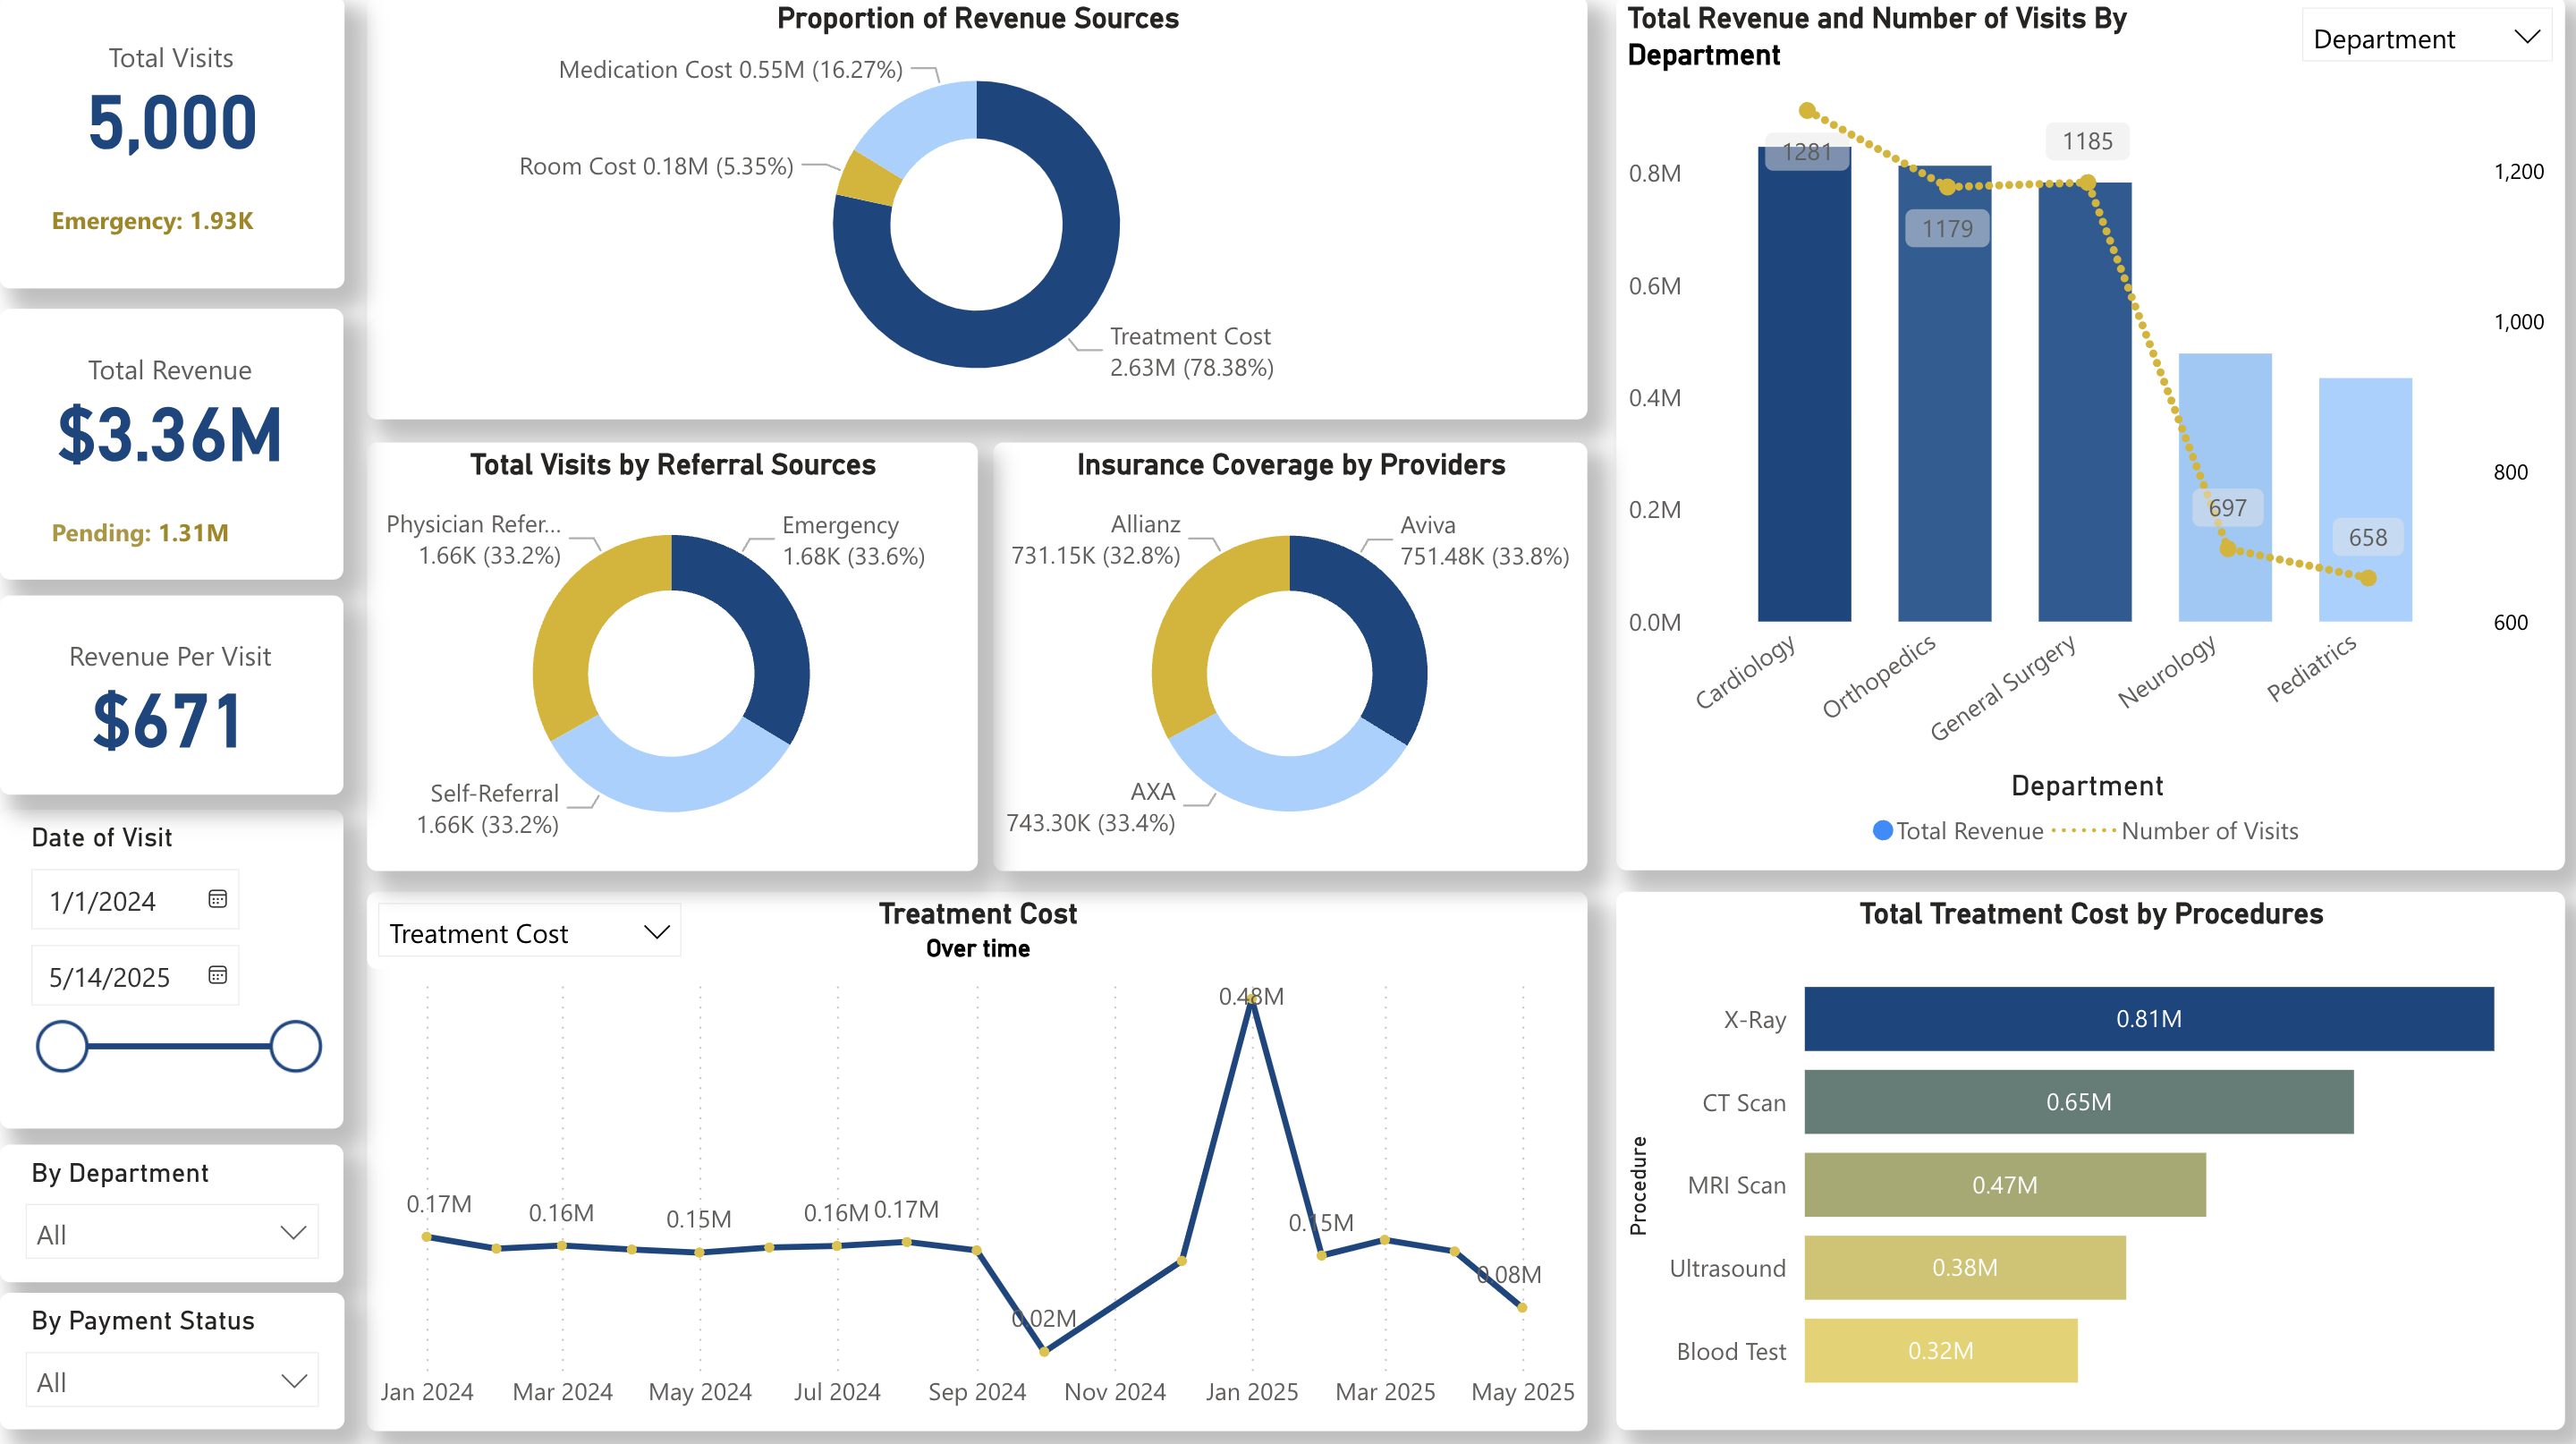

The dashboard page shown, as its layout file describes it:
{"tool":"powerbi","page":{"name":"Page 1","canvas":[1280,720],"ordinal":0},"visuals":[{"type":"donutChart","title":"Proportion of Revenue Sources","fields":{"Y":["Sum(Sheet1.Treatment Cost)","Sum(Sheet1.Room Cost)","Sum(Sheet1.Medication Cost)"]},"box":[182.5,0,606.2,209.9],"z":0},{"type":"lineClusteredColumnComboChart","title":"Total Revenue and Number of Visits By","fields":{"Category":["Sheet1.Department"],"Y":["Sum(Sheet1.Revenue)"],"Y2":["CountNonNull(Sheet1.Visit ID)"]},"box":[802.5,0,471.1,433.7],"z":1000},{"type":"lineChart","fields":{"Category":["Sheet1.Date of Visit.Variation.Date Hierarchy.Year1","Sheet1.Date of Visit.Variation.Date Hierarchy.Month"],"Y":["Field Selector.Measure_TotalBySelectedMeasure"]},"box":[182.5,444.4,606.2,267.8],"z":2000},{"type":"slicer","fields":{"Values":["Sheet1.Date of Visit"]},"box":[0,404,170.6,158.5],"z":3000},{"type":"slicer","title":"Revenue by","fields":{"Values":["Revenue by.Revenue by"]},"box":[1137.9,0,135.4,47.1],"z":4000},{"type":"slicer","fields":{"Values":["MeasureSelector.Value"]},"box":[182.5,444.4,161.9,38.3],"z":5000},{"type":"donutChart","title":"Insurance Coverage by Providers","fields":{"Category":["Sheet1.Insurance Provider"],"Y":["Sum(Sheet1.Insurance Coverage)"]},"box":[493.4,221.7,295.3,212.9],"z":6000},{"type":"donutChart","title":"Total Visits by Referral Sources","fields":{"Category":["Sheet1.Referral Source"],"Y":["Count(Sheet1.Visit ID)"]},"box":[182.5,221.7,303.1,212.9],"z":7000},{"type":"slicer","title":"Filter by Department","fields":{"Values":["Sheet1.Department"]},"box":[0,570.2,170.6,68.3],"z":8000},{"type":"slicer","title":"Filter by Payment Status","fields":{"Values":["Sheet1.Payment Status"]},"box":[0,644,171,68],"z":9000},{"type":"barChart","title":"Total Treatment Cost by Procedures","fields":{"Category":["Sheet1.Procedure"],"Y":["Sum(Sheet1.Treatment Cost)"]},"box":[802.5,444.7,471.1,267.5],"z":10000},{"type":"cardVisual","fields":{"Data":["Count(Sheet1.Visit ID)"]},"box":[0,0,171,145],"z":11000},{"type":"cardVisual","fields":{"Data":["Sum(Sheet1.Revenue)"]},"box":[0,155.2,170.6,134.3],"z":12000},{"type":"cardVisual","fields":{"Data":["Avg(Sheet1.Revenue)"]},"box":[0,297.2,170.6,99.1],"z":13000}]}

Visuals, with their boxes in screenshot pixels (x1, y1, x2, y2), scaled from the page's 1280x720 canvas onto the 2576x1444 screenshot:
"Proportion of Revenue Sources" donutChart: [368,0,1588,421]
"Total Revenue and Number of Visits By" lineClusteredColumnComboChart: [1615,0,2563,870]
lineChart - Sheet1.Date of Visit.Variation.Date Hierarchy.Year1 x Sheet1.Date of Visit.Variation.Date Hierarchy.Month: [368,891,1588,1429]
slicer - Sheet1.Date of Visit: [0,811,343,1128]
"Revenue by" slicer: [2290,0,2563,95]
slicer - MeasureSelector.Value: [368,891,693,968]
"Insurance Coverage by Providers" donutChart: [993,445,1588,871]
"Total Visits by Referral Sources" donutChart: [368,445,978,871]
"Filter by Department" slicer: [0,1143,343,1280]
"Filter by Payment Status" slicer: [0,1292,344,1428]
"Total Treatment Cost by Procedures" barChart: [1615,892,2563,1429]
cardVisual - Count(Sheet1.Visit ID): [0,0,344,291]
cardVisual - Sum(Sheet1.Revenue): [0,311,343,581]
cardVisual - Avg(Sheet1.Revenue): [0,596,343,794]
